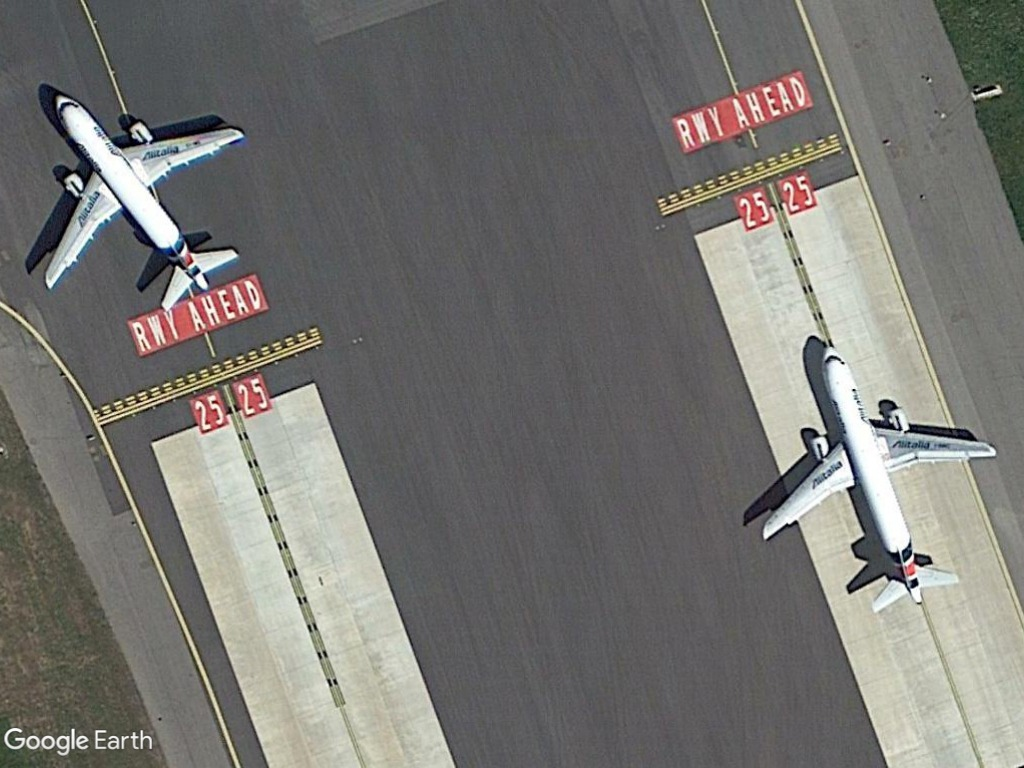airliner: (754, 337, 1000, 616), (30, 86, 249, 319)
